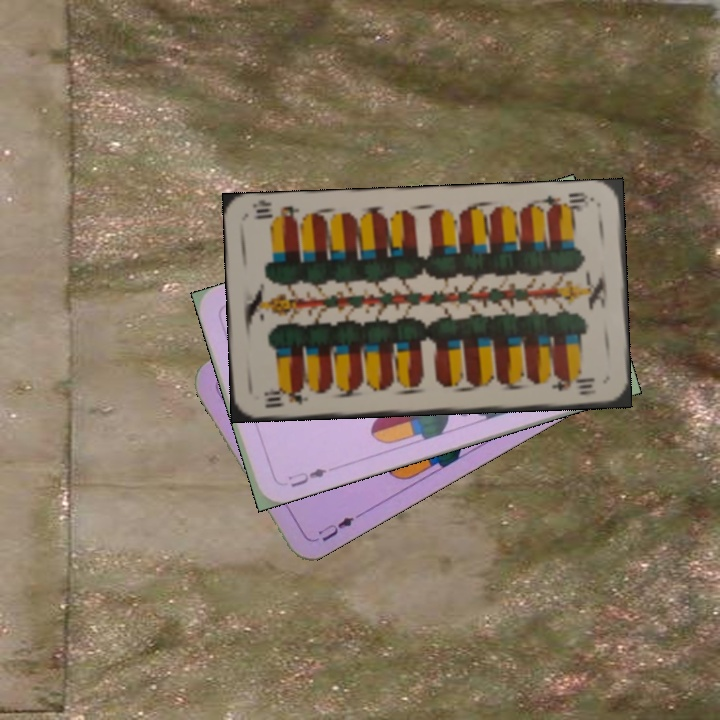E10: (538, 188, 597, 215), (260, 384, 311, 410)
EU: (314, 512, 357, 544), (284, 464, 330, 490)
